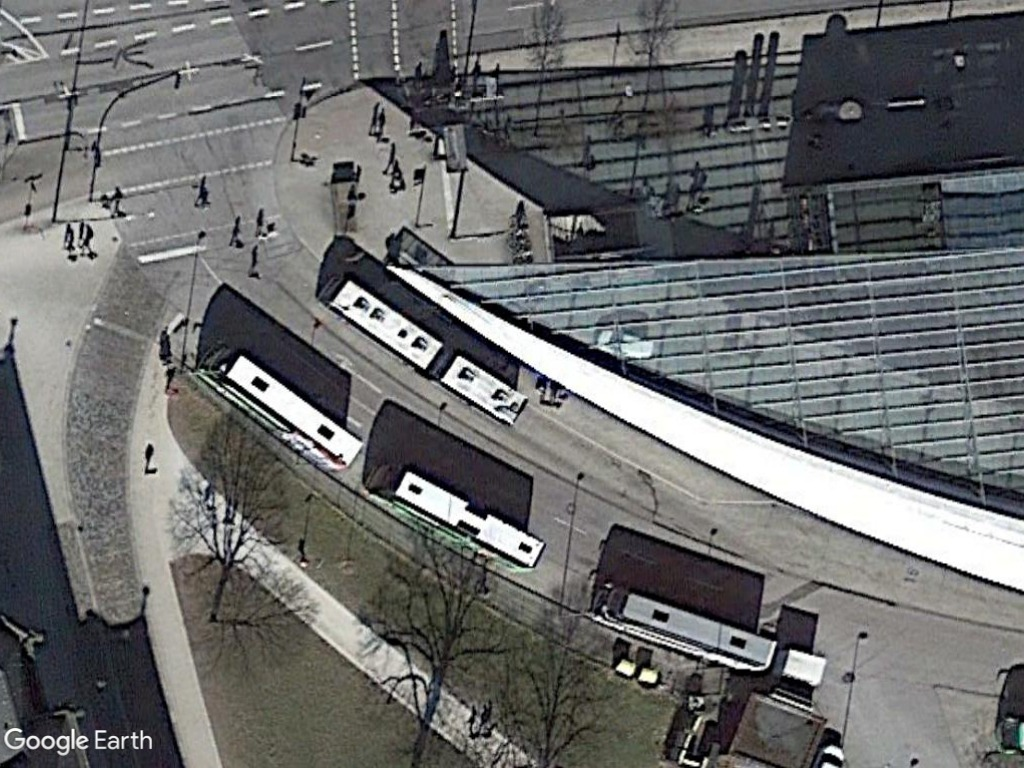bus: (373, 457, 549, 575), (207, 345, 368, 473), (589, 577, 780, 677), (318, 270, 449, 377), (433, 350, 530, 427)
